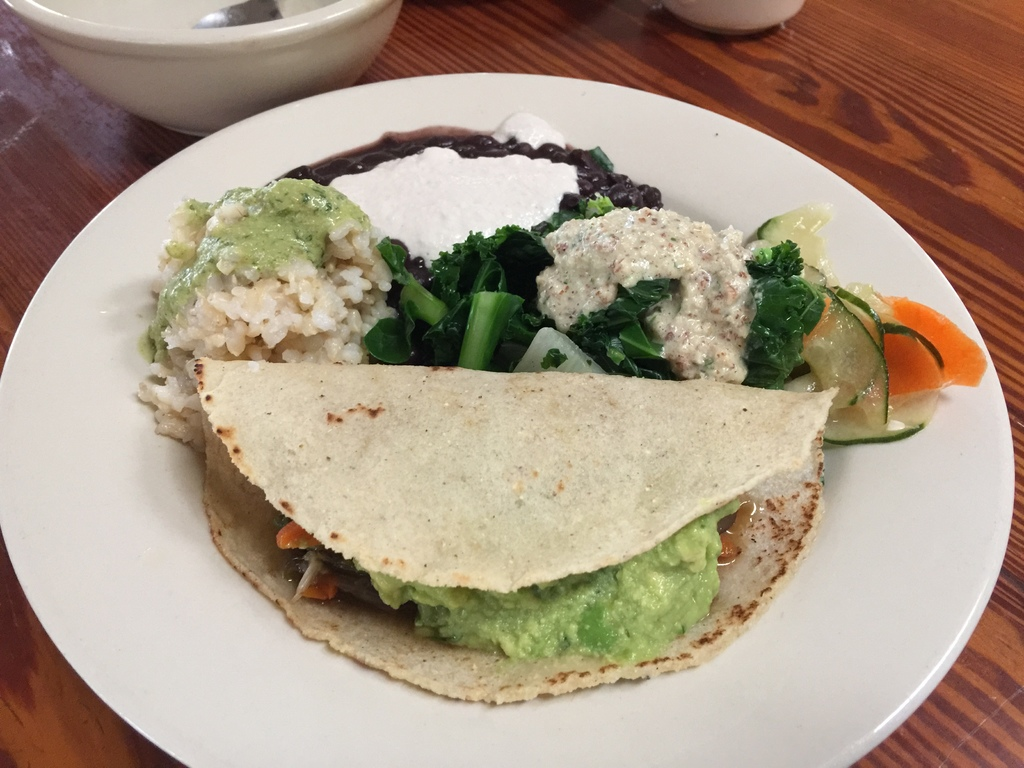taco: (191, 353, 842, 707)
